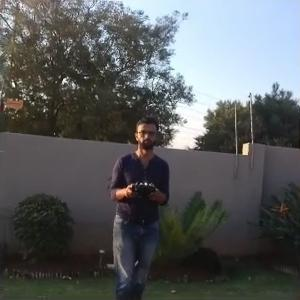follow: (104, 110, 173, 298)
